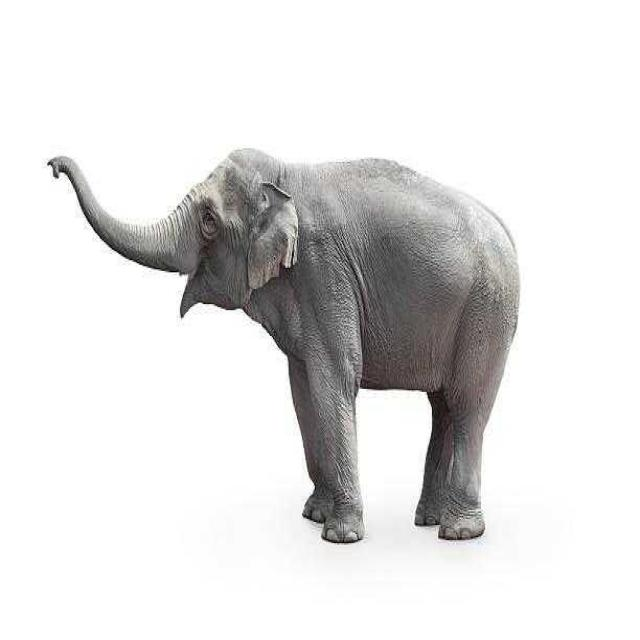Elephant: (45, 144, 521, 543)
